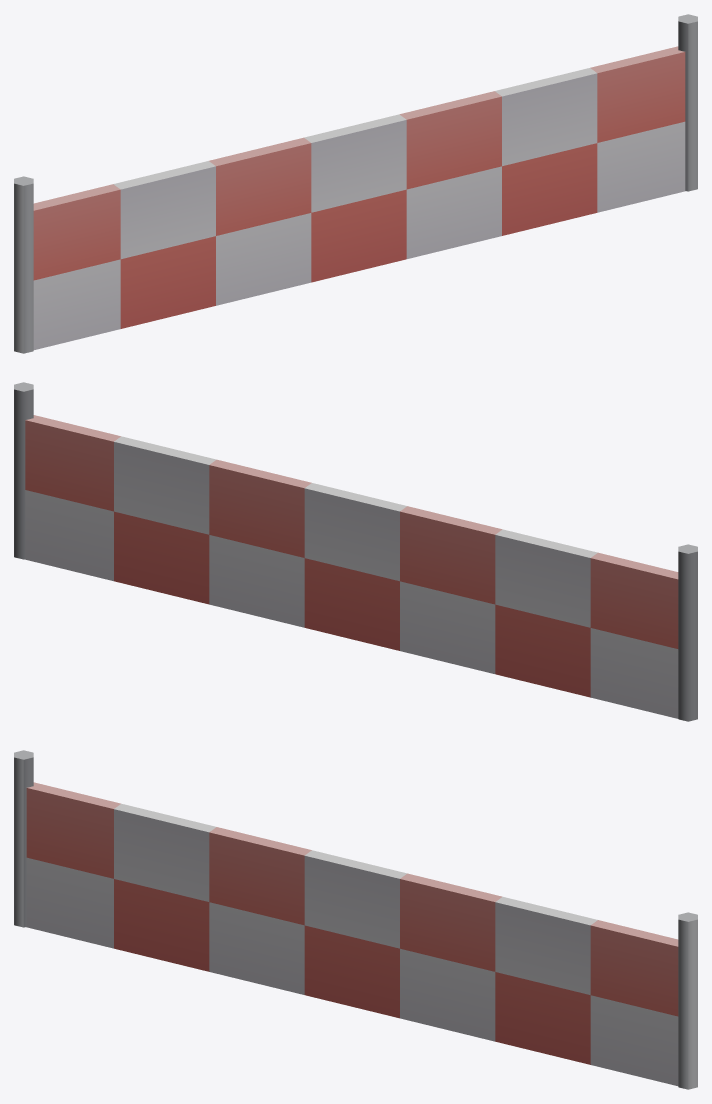
File: CheckerBackboardRed.glb
The picture shows the model from 3 angles, top to bottom: view 1: azimuth 30°, elevation 25°; view 2: azimuth 150°, elevation 25°; view 3: azimuth 330°, elevation 25°; orthographic projection.
Parts seen in each view (by area): view 1: CheckerBackboardRed; view 2: CheckerBackboardRed; view 3: CheckerBackboardRed.
Boxes of the visible parts, box(x1,y1,x2,y2) form: CheckerBackboardRed: box(14, 14, 697, 353); CheckerBackboardRed: box(14, 382, 697, 721); CheckerBackboardRed: box(14, 750, 697, 1089).
Bounding box in the file's own units: 1.69 × 0.398 × 0.0418.
